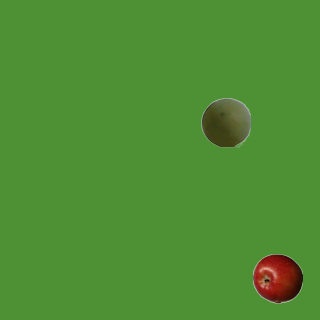Apple Braeburn: (252, 253, 302, 303)
Grape White 4: (200, 97, 250, 147)
